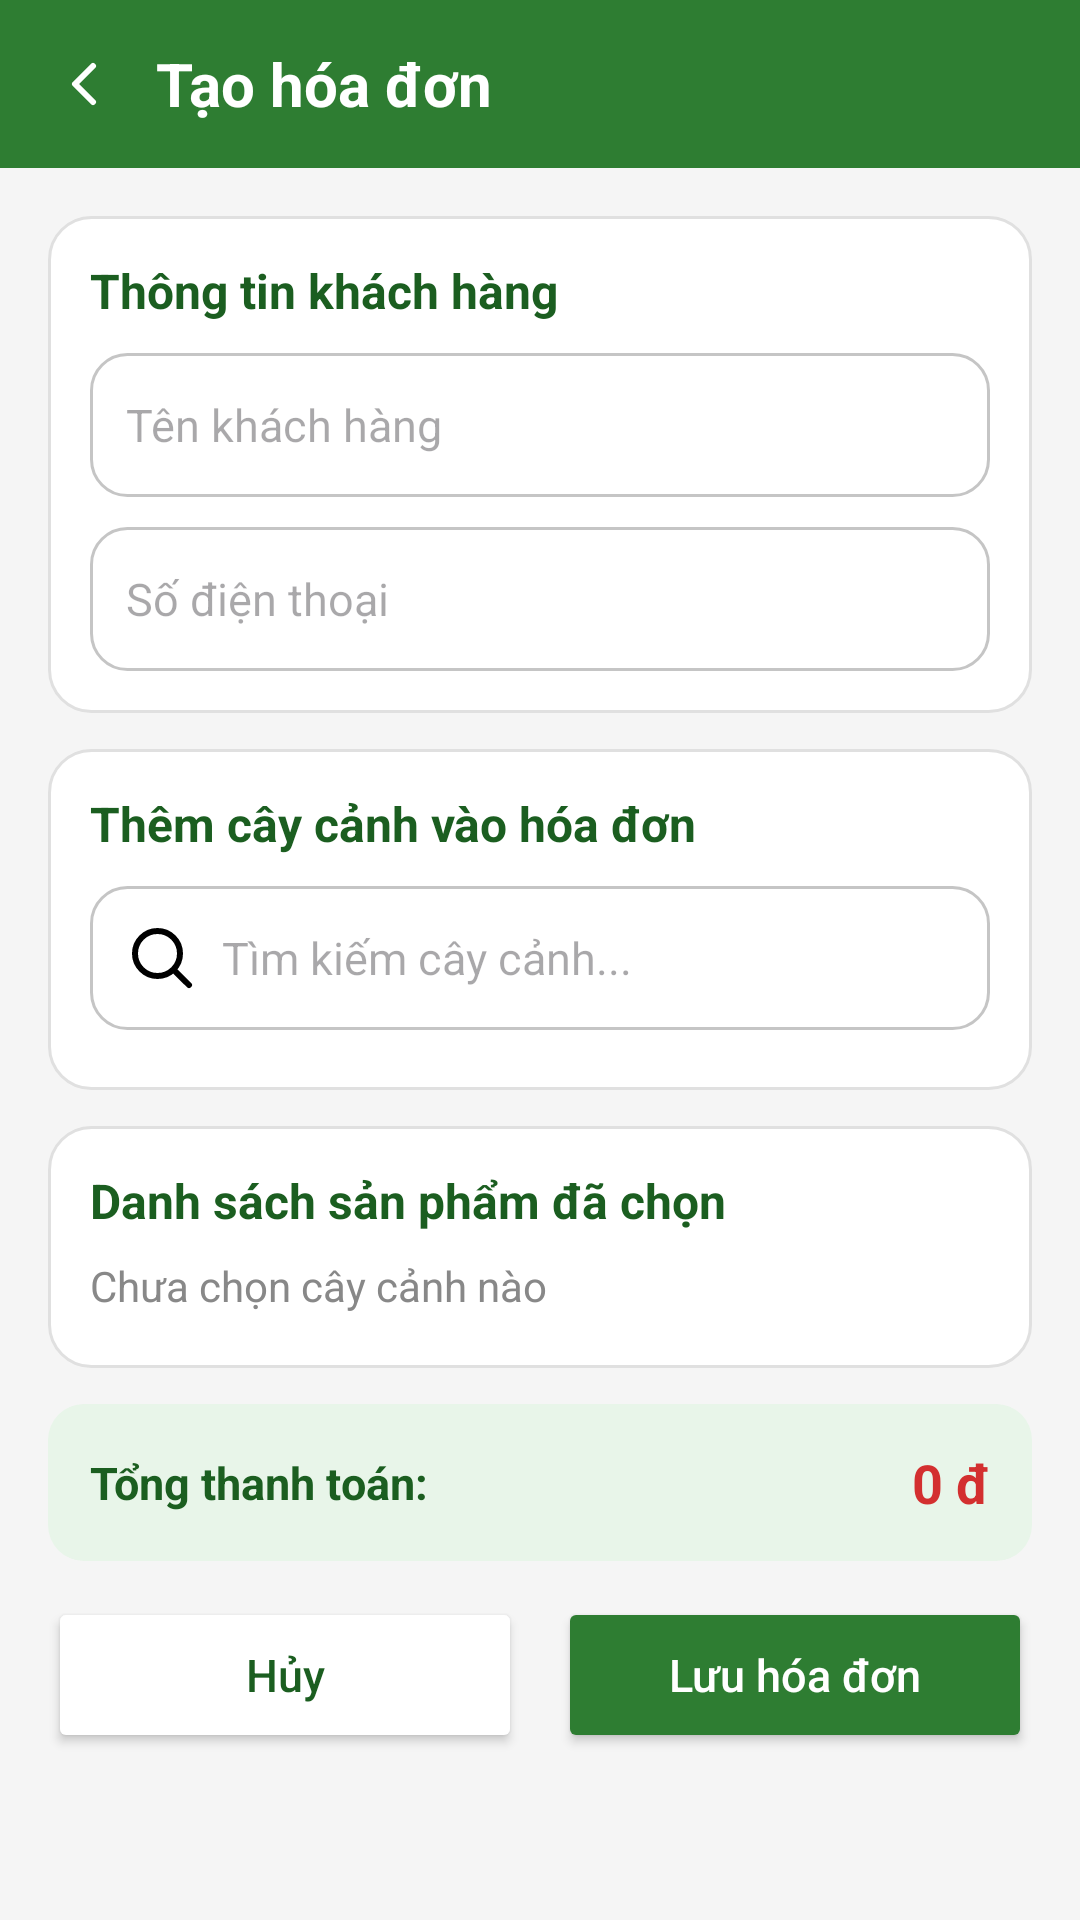

Icon click points for this 1080w x 1920h phone screenshot, format [x,y]:
Quay lại: [84,84]
